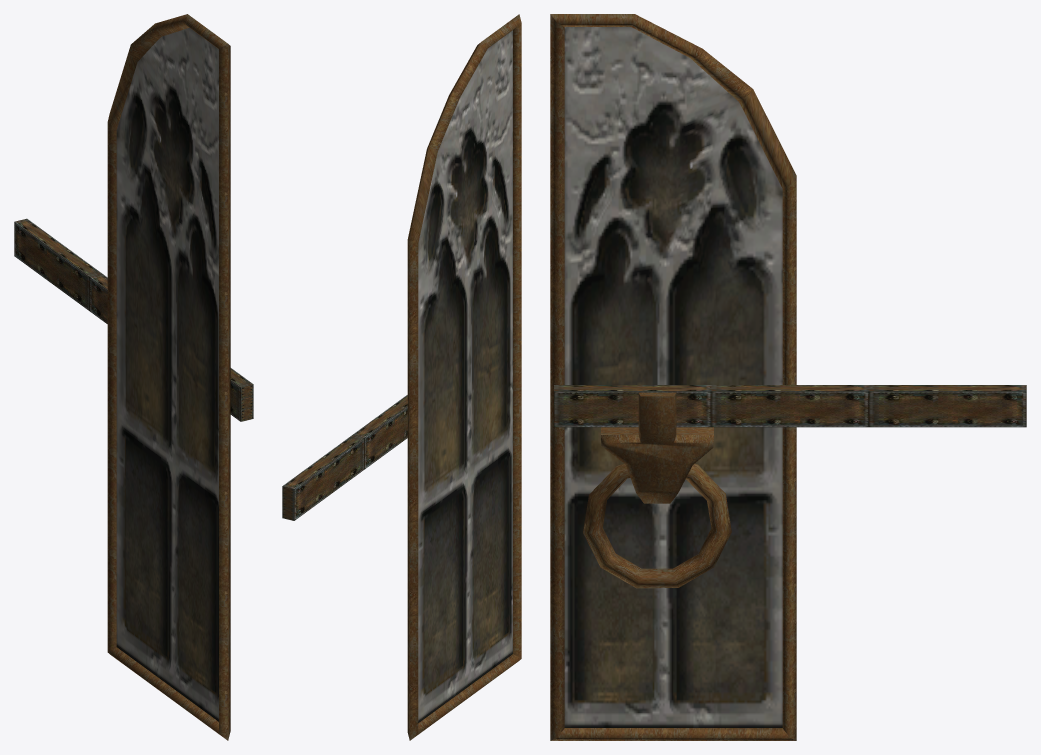
Rendered from EREBOR_DOOR_01.fbx.
The picture shows the model from 3 angles, left to right: view 1: azimuth 30°, elevation 25°; view 2: azimuth 150°, elevation 25°; view 3: azimuth 270°, elevation 25°; orthographic projection. The views are drawn at different scales.
Parts seen in each view (by area): view 1: EREBOR_DOOR_01; view 2: EREBOR_DOOR_01; view 3: EREBOR_DOOR_01.
Part boxes in pixels (x1,y1,x2,y2): EREBOR_DOOR_01: (14,14,253,740); EREBOR_DOOR_01: (282,14,521,740); EREBOR_DOOR_01: (550,14,1026,740).
Size of the model in its own units: 4426 by 66130 by 39254.
Materials: 3 (3 with a texture image).
